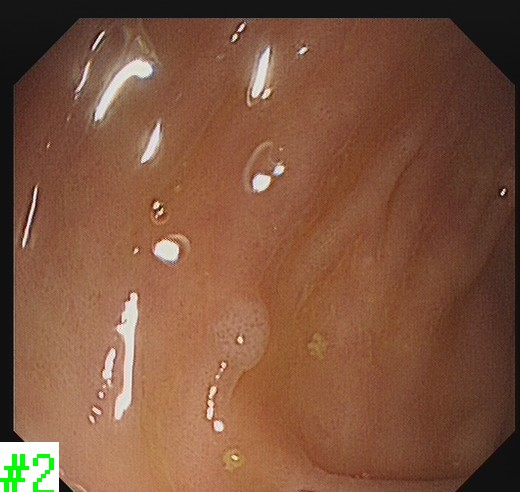others: (212, 290, 273, 373)
